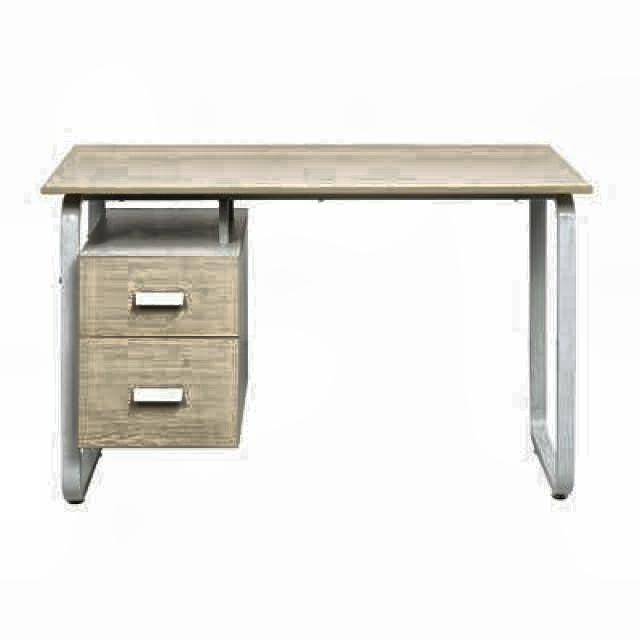mesa: (38, 117, 605, 528)
